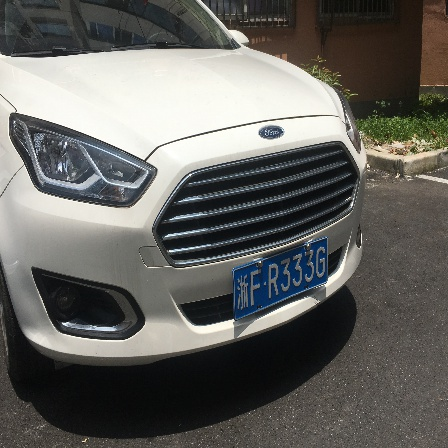plate: (232, 242, 330, 308)
